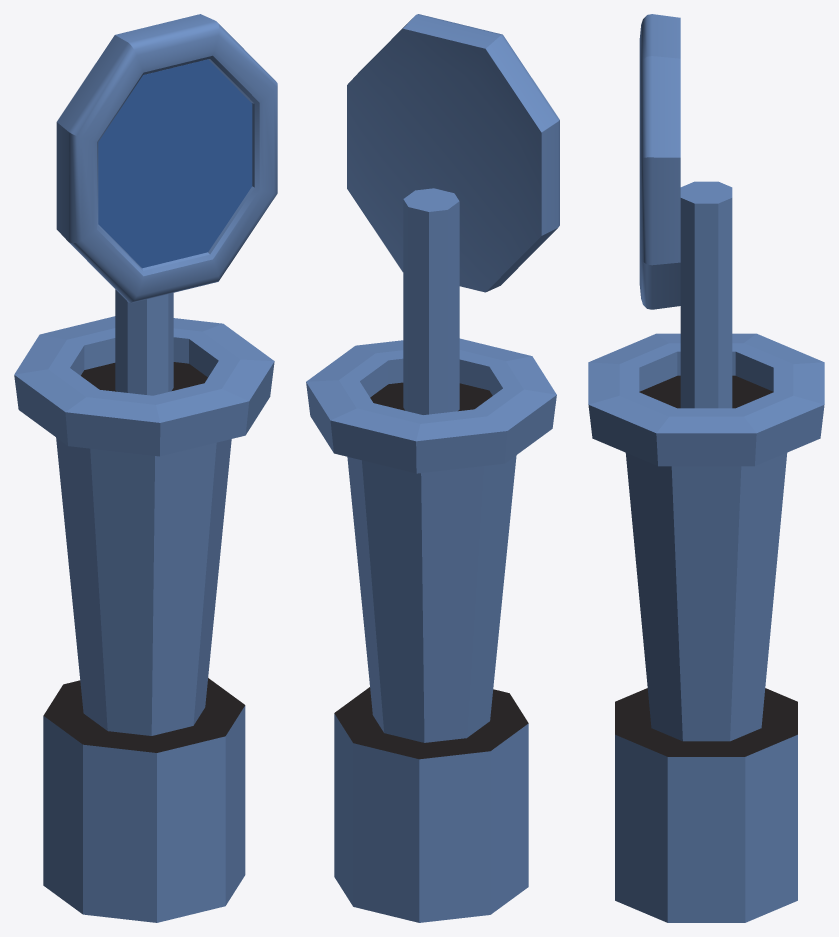
The model's file is PROP3.fbx.
The picture shows the model from 3 angles, left to right: view 1: azimuth 30°, elevation 25°; view 2: azimuth 150°, elevation 25°; view 3: azimuth 270°, elevation 25°; orthographic projection. The views are drawn at different scales.
Parts seen in each view (by area): view 1: Cube.003, Cube.004; view 2: Cube.003, Cube.004; view 3: Cube.003, Cube.004.
Boxes of the visible parts, x1=… form: Cube.003: x1=14, y1=289, x2=274, y2=922; Cube.004: x1=56, y1=14, x2=277, y2=302; Cube.003: x1=306, y1=188, x2=556, y2=922; Cube.004: x1=347, y1=14, x2=559, y2=292; Cube.003: x1=588, y1=181, x2=824, y2=922; Cube.004: x1=639, y1=14, x2=680, y2=309.
Size of the model in its own units: 258 by 1023 by 258.
Materials: 1 (1 with a texture image).
